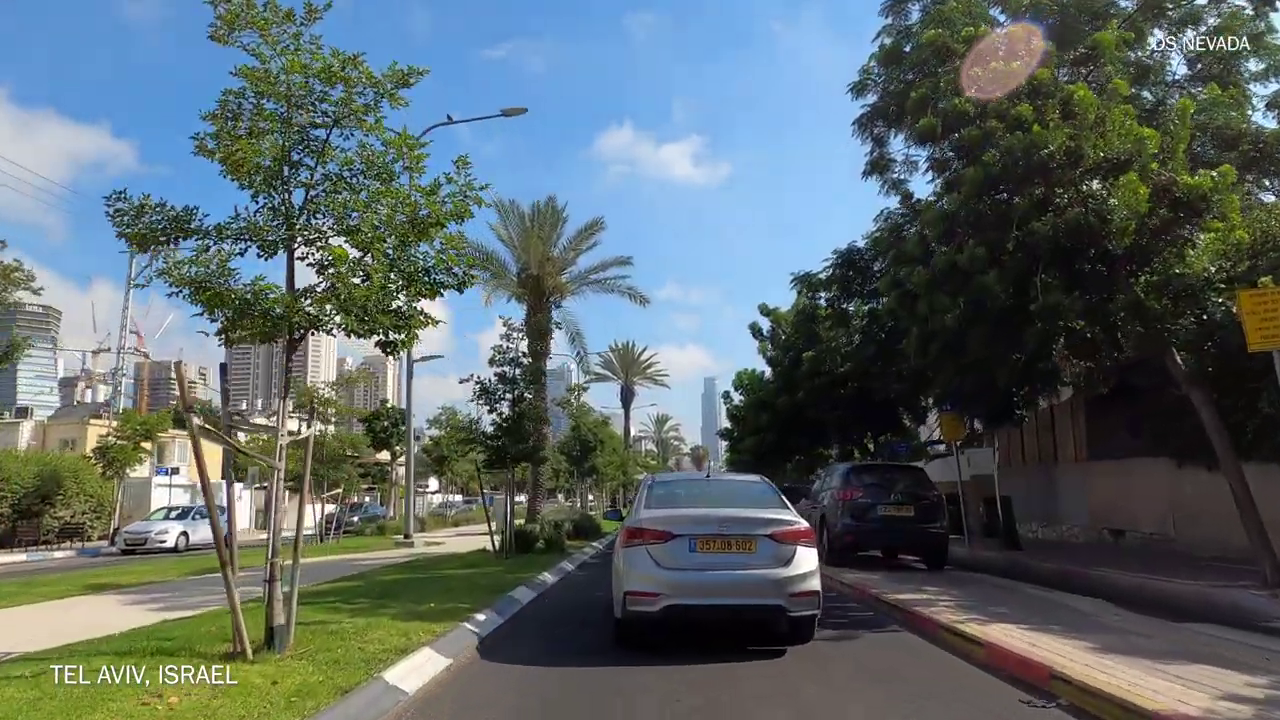licence: (139, 538, 154, 544)
